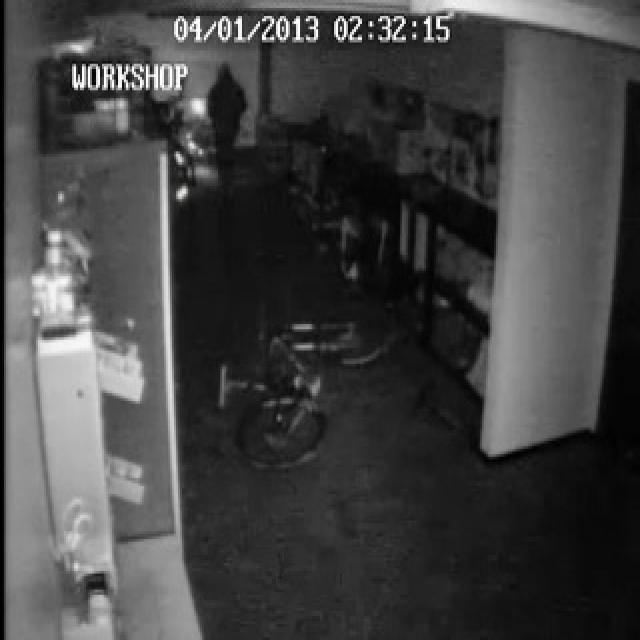thief: (206, 65, 244, 165)
